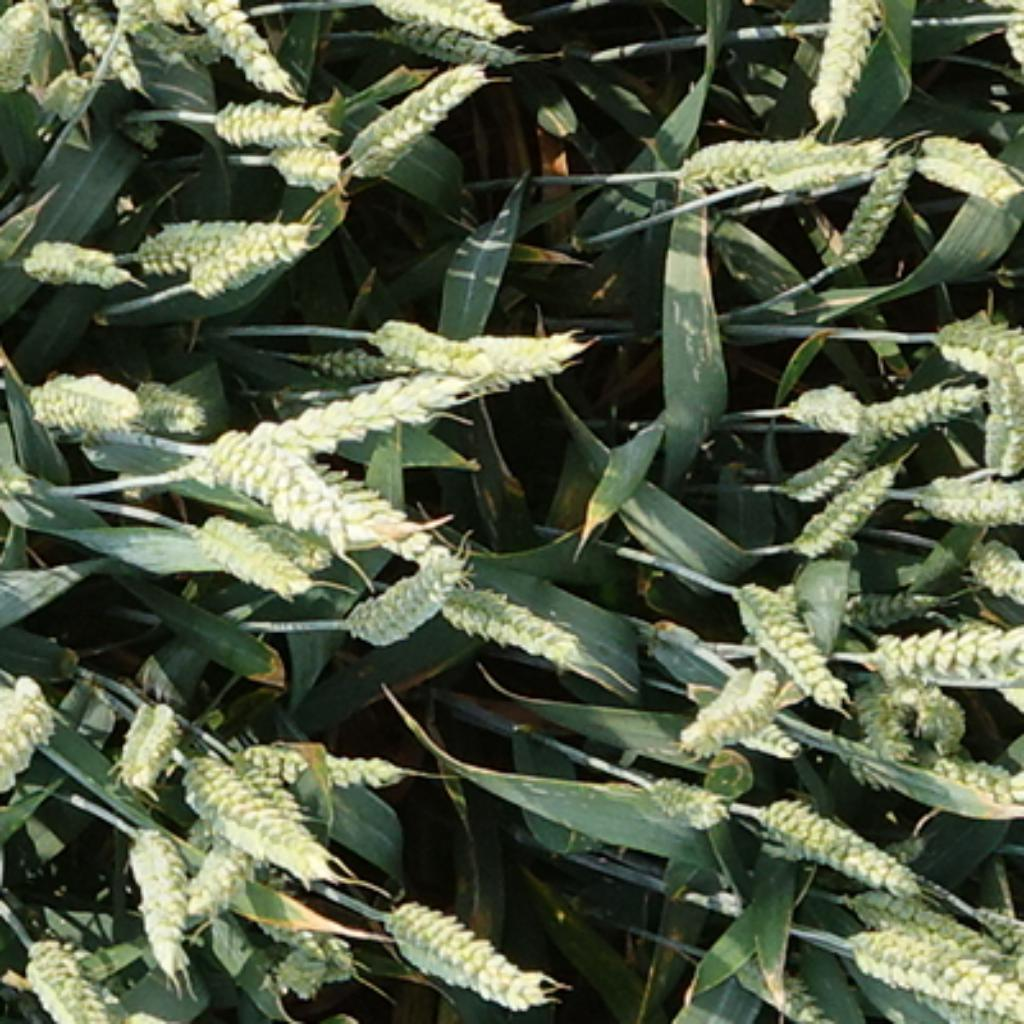0-0: (186, 327, 581, 486), (194, 440, 476, 573), (379, 884, 560, 1014), (184, 755, 340, 893), (747, 783, 924, 896), (348, 48, 494, 174), (663, 131, 901, 203), (737, 583, 852, 729), (850, 935, 1024, 1022), (432, 565, 583, 660), (212, 430, 340, 542), (842, 890, 1024, 967), (170, 0, 318, 94), (340, 542, 468, 645), (673, 655, 796, 752), (194, 514, 325, 604), (186, 220, 335, 299), (15, 919, 125, 1024), (133, 215, 322, 276), (826, 145, 921, 263), (791, 450, 901, 550), (124, 829, 198, 973), (803, 0, 890, 120), (867, 614, 1018, 683), (0, 668, 64, 816), (968, 326, 1024, 490), (844, 368, 977, 437), (250, 903, 355, 990), (25, 366, 148, 438), (911, 132, 1024, 206), (693, 680, 801, 757), (773, 422, 885, 496), (368, 320, 501, 381), (727, 954, 839, 1024), (243, 744, 409, 791), (762, 138, 898, 194), (384, 17, 519, 71), (908, 460, 1024, 522), (204, 89, 335, 143), (179, 834, 268, 913), (929, 302, 1021, 378), (919, 744, 1021, 811), (66, 0, 140, 92), (20, 238, 133, 296), (112, 698, 181, 790), (235, 757, 314, 834), (885, 675, 970, 744), (363, 0, 517, 38), (636, 770, 731, 829), (783, 368, 872, 430), (849, 688, 916, 768), (967, 622, 1024, 716), (296, 335, 399, 384), (128, 368, 207, 430), (0, 0, 56, 84), (253, 524, 337, 576), (36, 64, 105, 126), (263, 133, 348, 181), (839, 581, 934, 622), (261, 944, 325, 998), (488, 335, 583, 371), (967, 540, 1024, 599), (30, 0, 94, 2)
